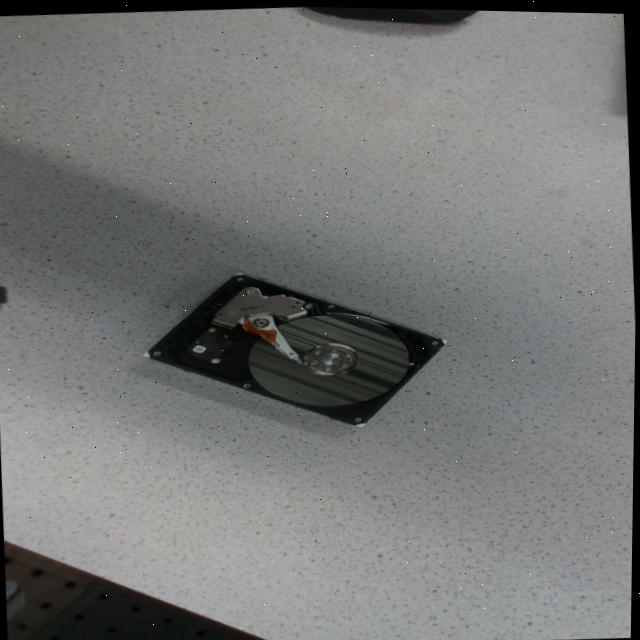actuator arm: (241, 312, 299, 358)
actuator axis: (255, 317, 268, 327)
case: (148, 273, 444, 423)
magnet: (215, 286, 308, 327)
pcb connector: (189, 327, 232, 361)
platter: (250, 313, 408, 404)
platter holder: (305, 342, 359, 373)
screw: (245, 287, 258, 294), (310, 358, 319, 364), (212, 358, 221, 363), (341, 362, 349, 367), (345, 352, 353, 357), (332, 345, 339, 350), (315, 349, 322, 354), (209, 327, 217, 331), (325, 366, 332, 370)
